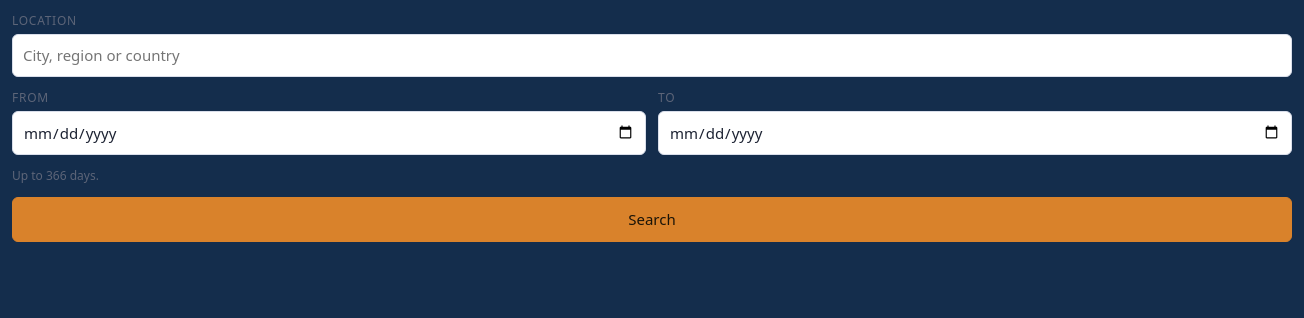
Test: SearchForm › never uses window.alert
What coordinates should you click on to do the following:
click the button "Search"
I would click on:
 (652, 219)
Its box is left=12, top=197, right=1292, bottom=242.
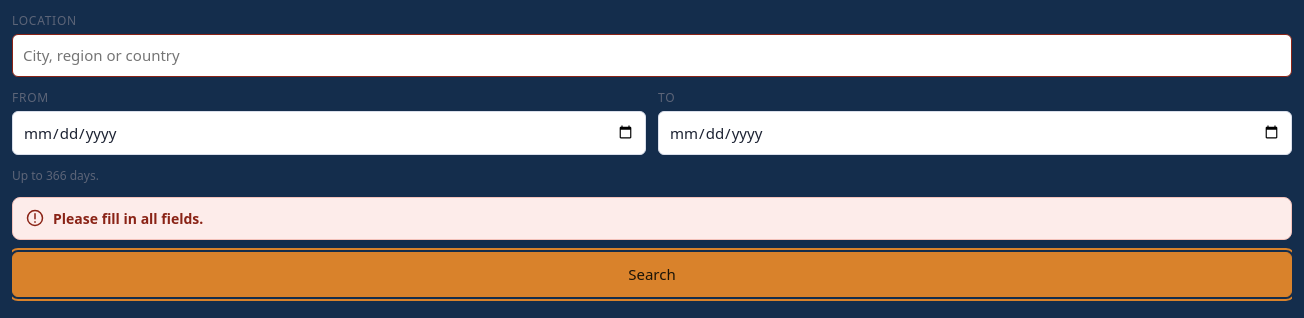
Result: the message reads "Please fill in all fields." at left=53, top=209, right=203, bottom=228
